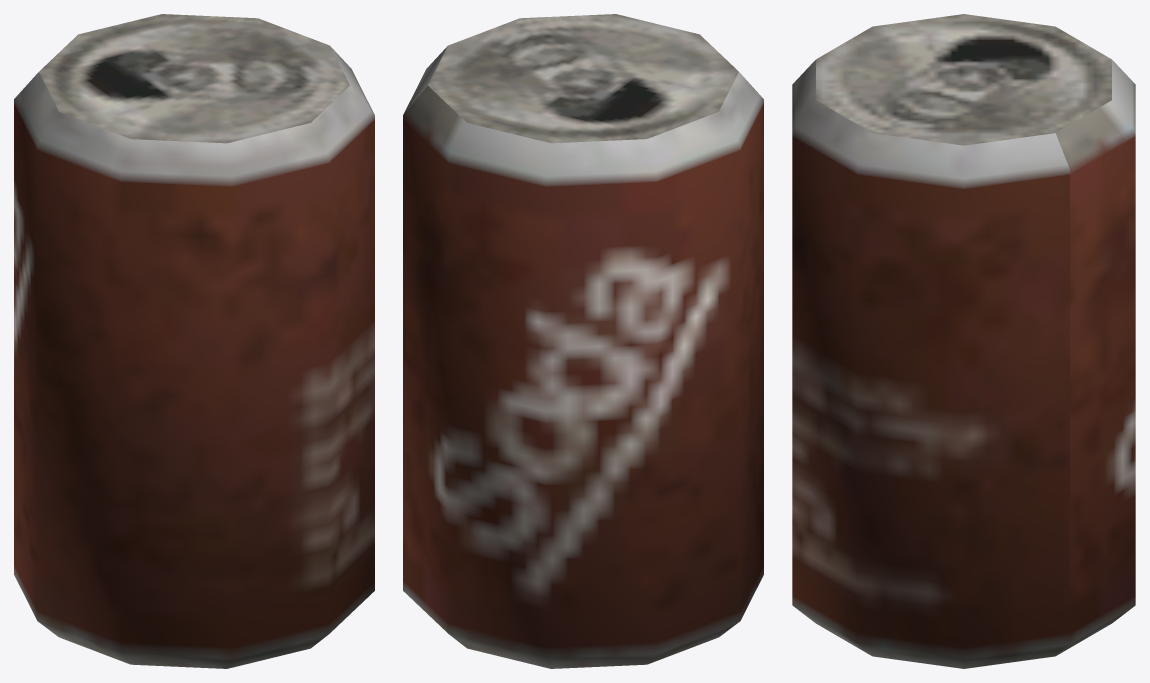
File: can_red.dae
3 renders of one model, left to right at view 1: azimuth 30°, elevation 25°; view 2: azimuth 150°, elevation 25°; view 3: azimuth 270°, elevation 25°, orthographic.
Parts seen in each view (by area): view 1: pCylinder5; view 2: pCylinder5; view 3: pCylinder5.
Part boxes in pixels (x1,y1,x2,y2): pCylinder5: [14, 14, 374, 668]; pCylinder5: [403, 14, 763, 668]; pCylinder5: [792, 14, 1135, 668].
Size of the model in its own units: 11.42 by 18.26 by 10.86.
